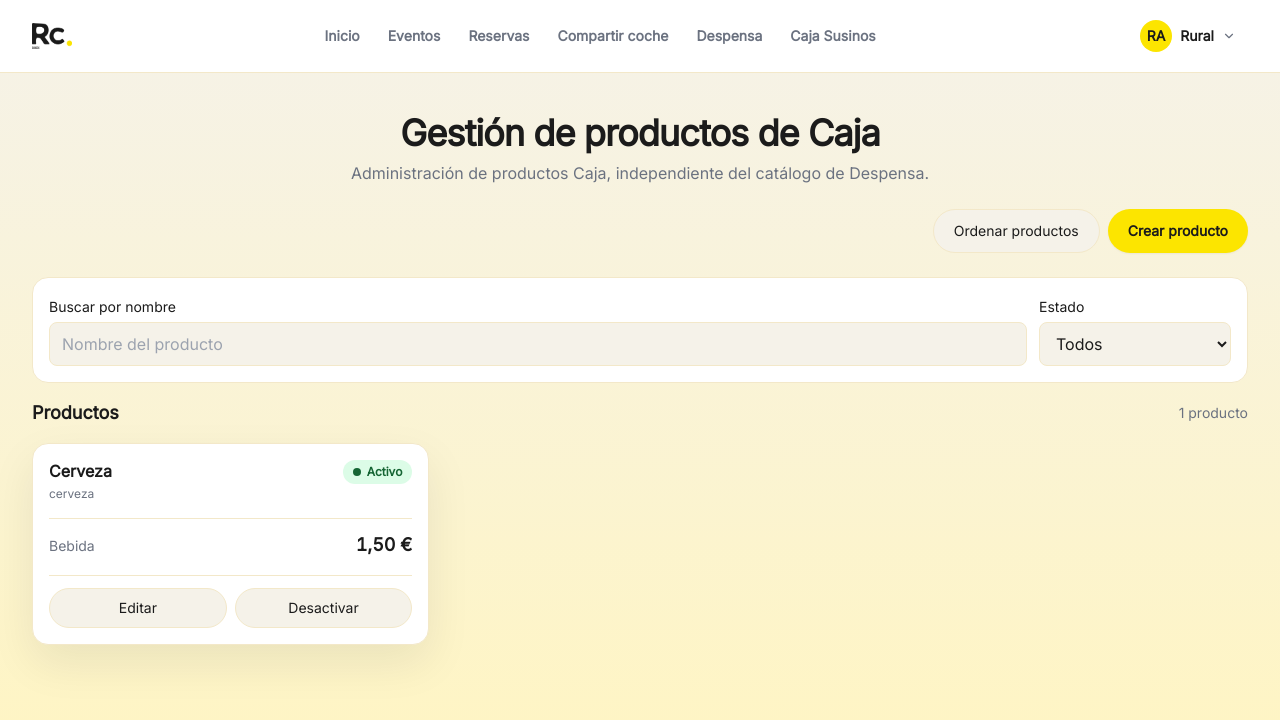
Caja product administration UI › edits a product and refreshes the list while keeping the ID immutable
Click the button "Editar" at {"x": 138, "y": 608}, box [49,588,227,628]
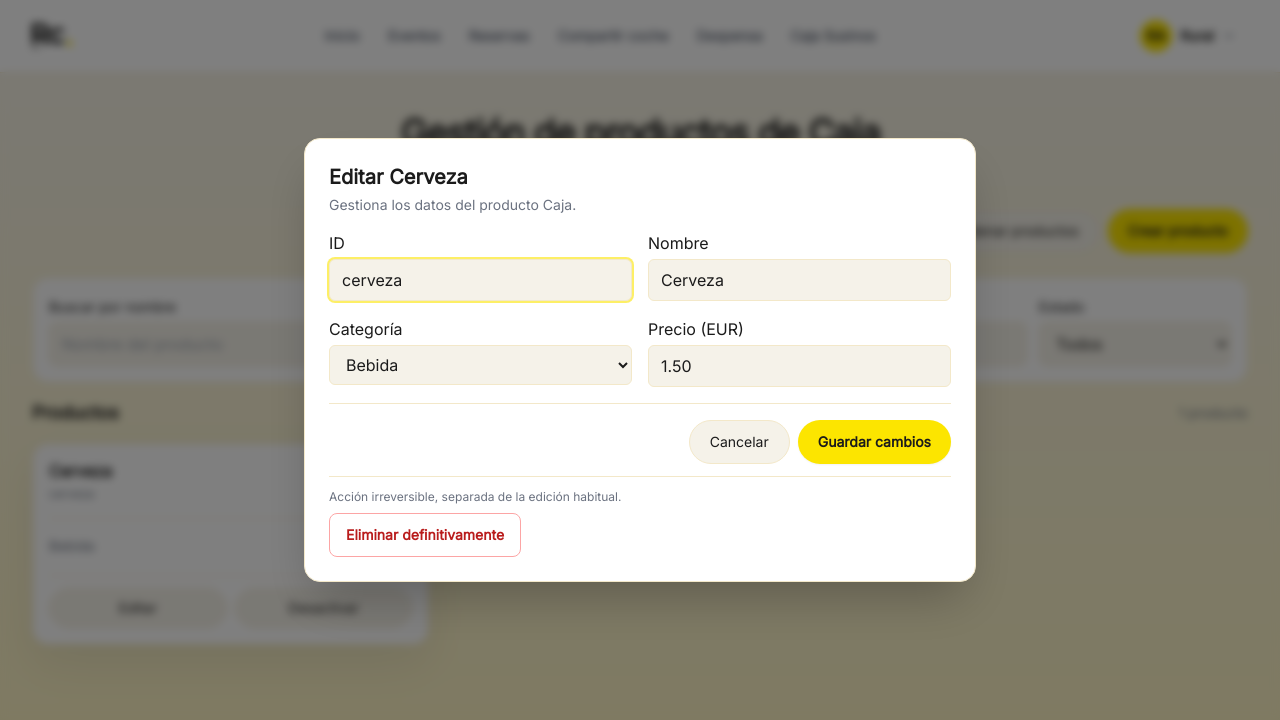
Replace the text in the field labelled "Nombre" with "Cerveza especial" at {"x": 800, "y": 280}, box [648,259,951,301]
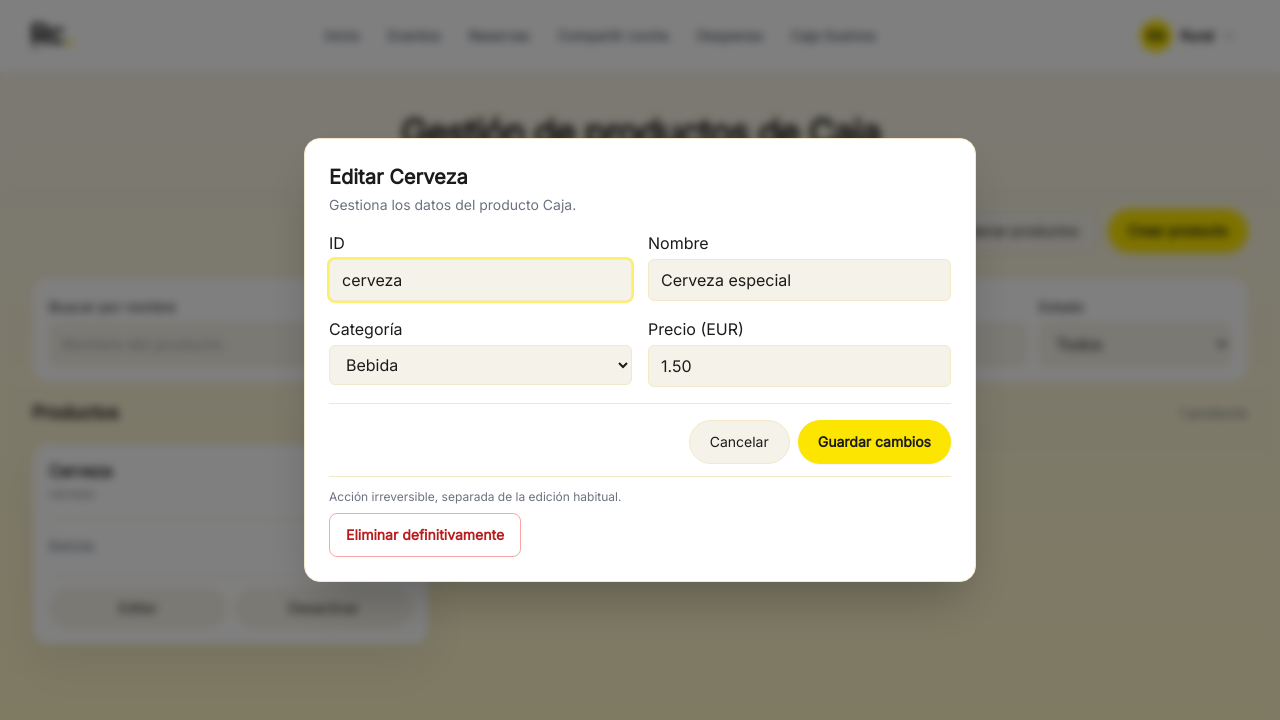
Replace the text in the field labelled "Precio (EUR)" with "2,00" at {"x": 800, "y": 366}, box [648,345,951,387]
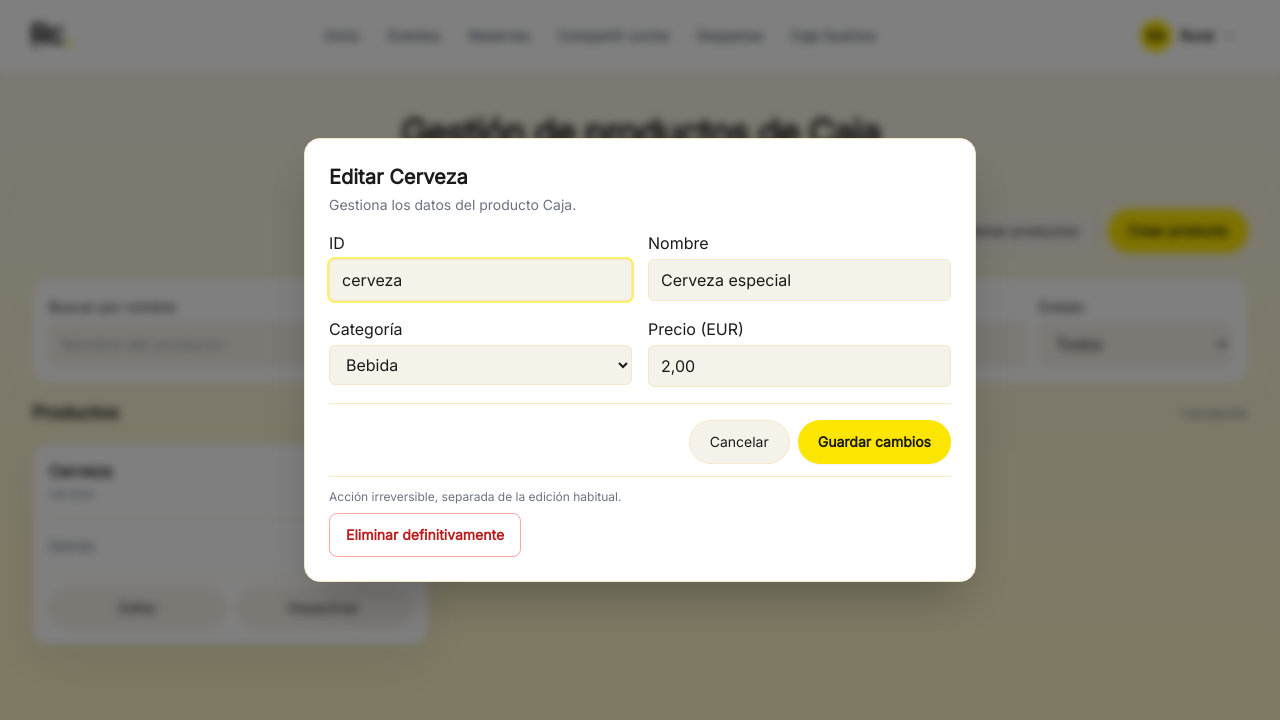
Click the button "Guardar cambios" at {"x": 874, "y": 442}, box [798,420,951,464]
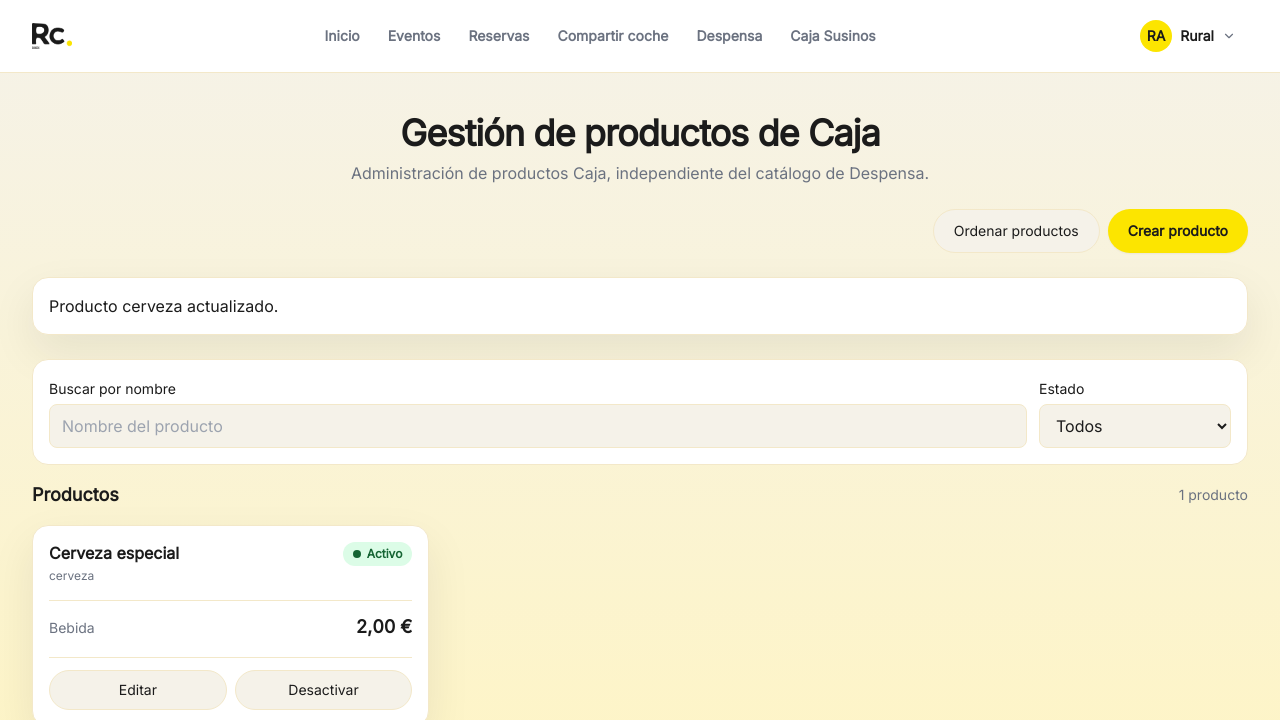
Result: the message reads "Producto cerveza actualizado." at [49,296,278,316]
Result: the heading "Cerveza especial" is shown at [49,542,179,564]
